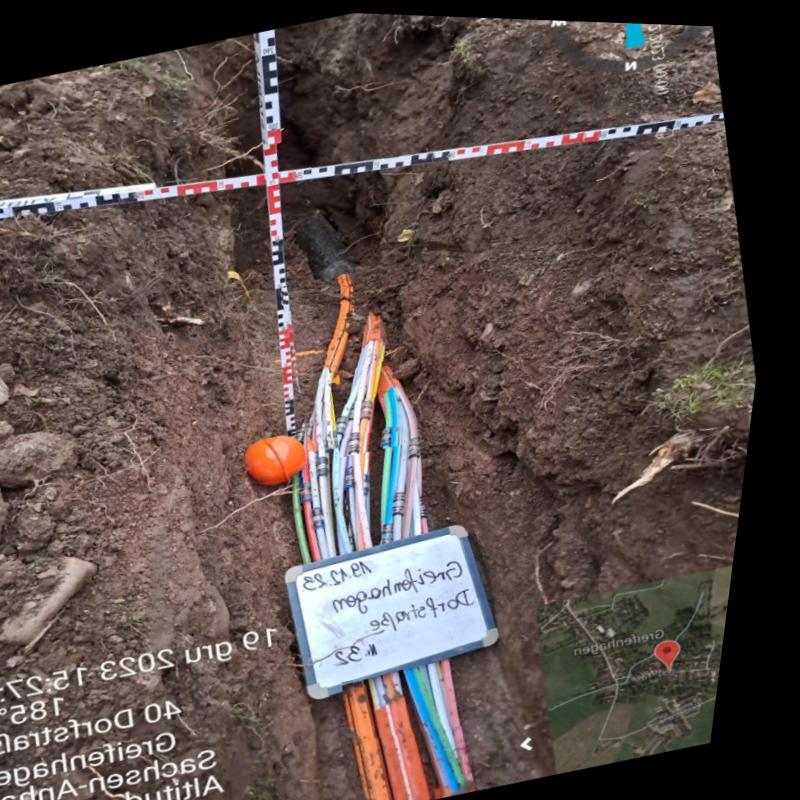Kugelmarker: (257, 433, 318, 479)
Orang-Speednetrohrchen: (360, 656, 496, 800), (347, 310, 407, 452), (314, 270, 360, 445)
